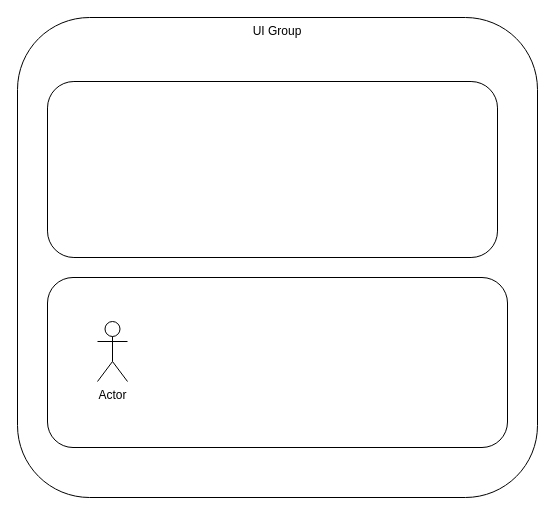
Image size: 555x515. Some labels were removed from this diagram. Each missing label, with the box of its shape:
Kanban Group Application: (46, 276, 508, 448)
Scrum Group Platform: (46, 80, 498, 258)
